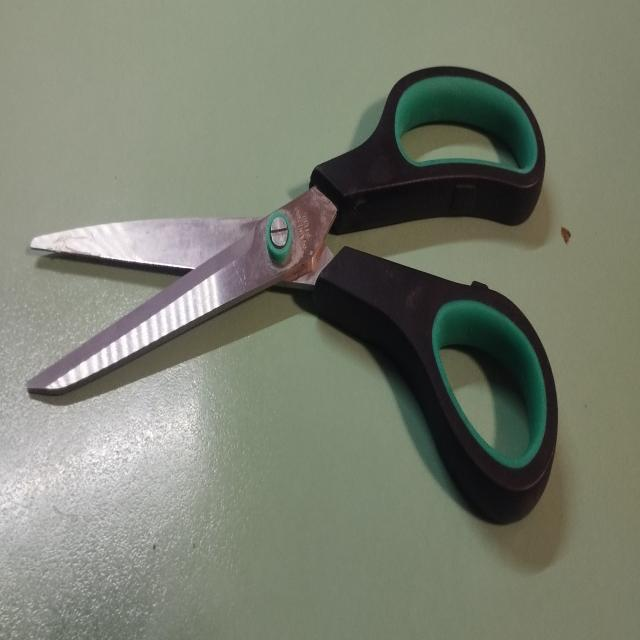tesoura: (20, 52, 563, 534)
